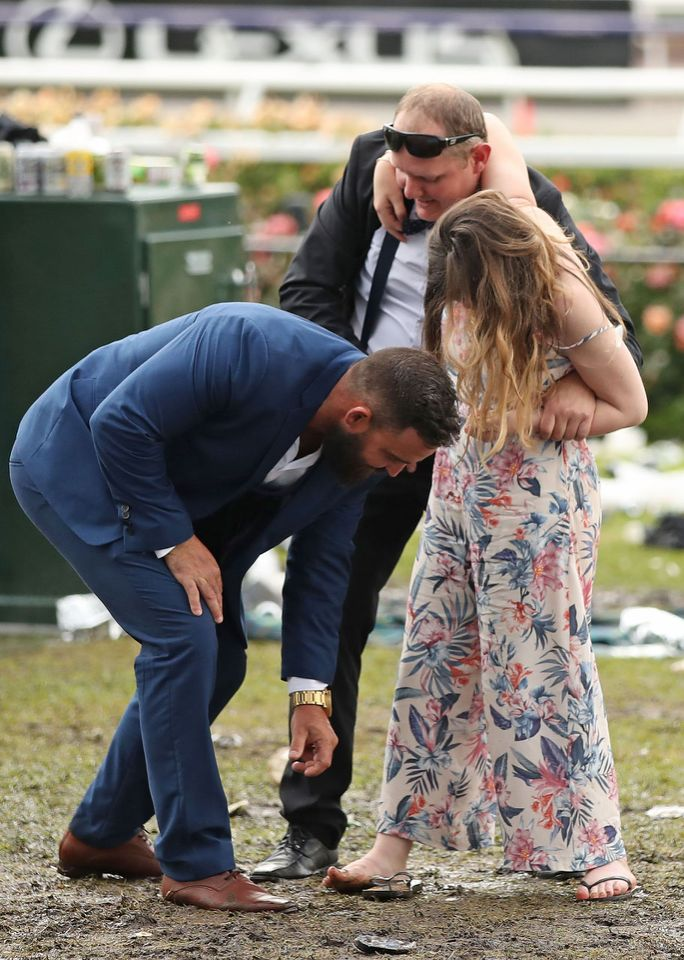Person: (249, 81, 643, 885), (8, 301, 461, 912), (315, 188, 649, 901)
